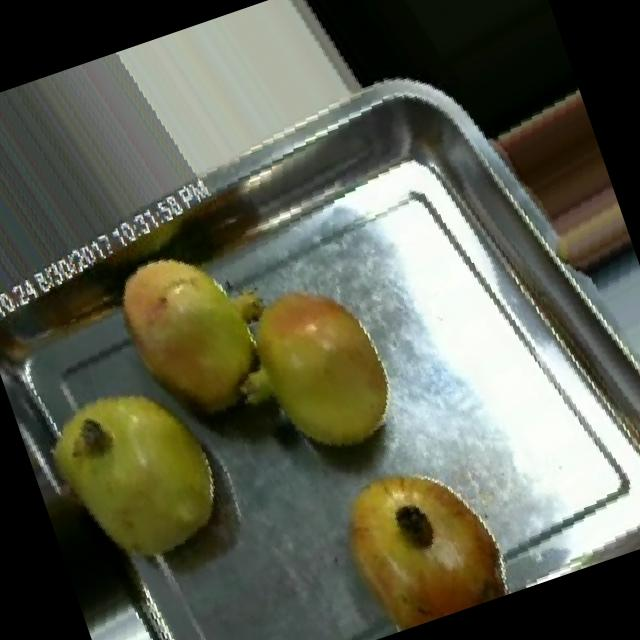fruit: (186, 229, 443, 502), (73, 202, 329, 470), (9, 338, 263, 604), (295, 417, 538, 640)
